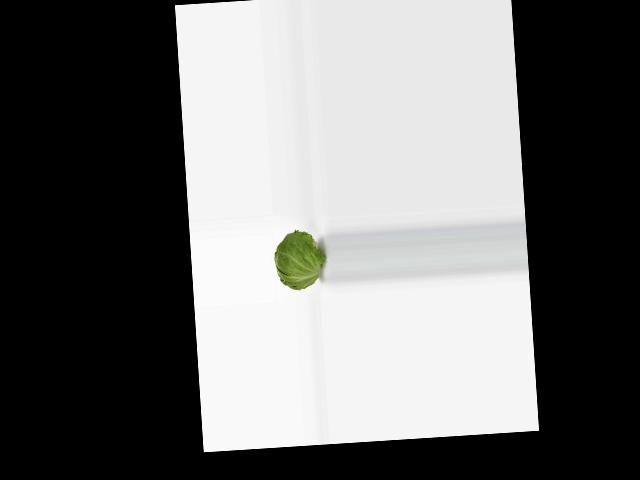lettuce: (272, 227, 320, 295)
